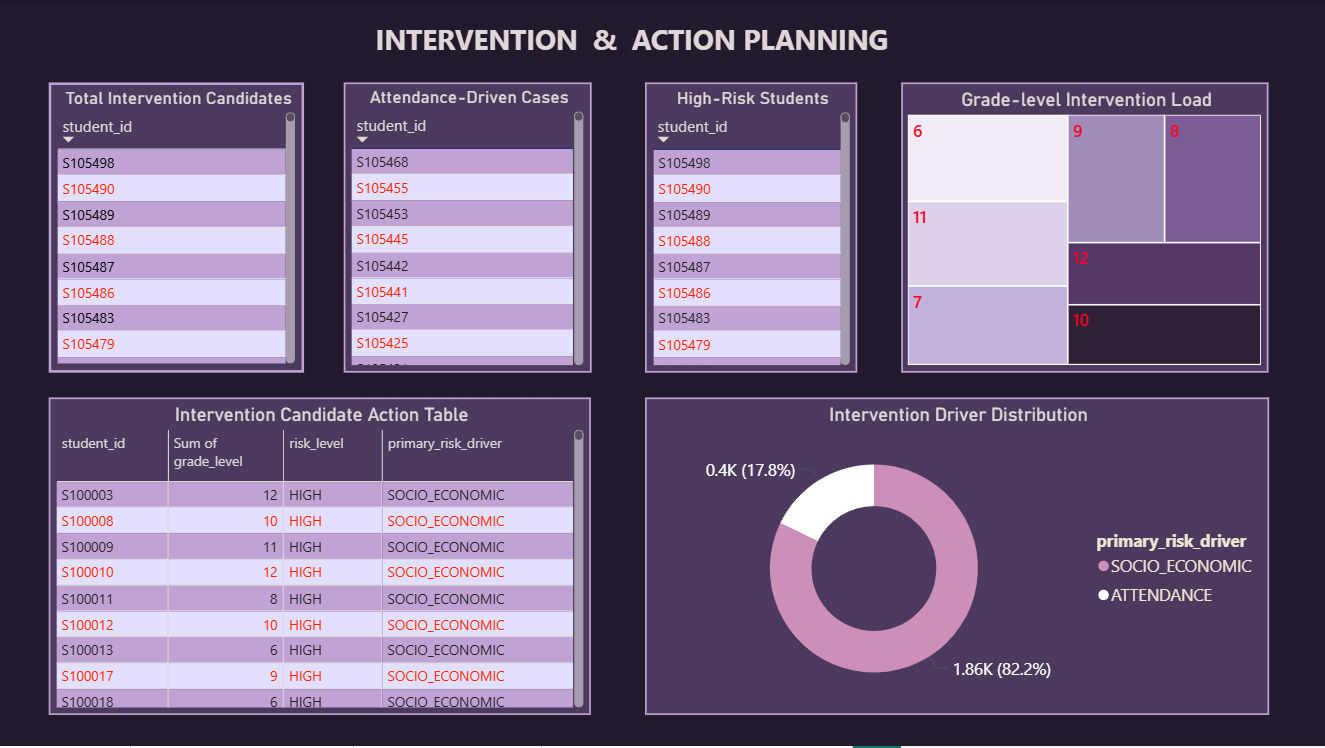

Layout of this report page (visuals, bound fields, positions):
{"tool":"powerbi","page":{"name":"INTERVENTION & ACTION PLANNING","canvas":[1280,720],"ordinal":3},"visuals":[{"type":"tableEx","title":"Total Intervention Candidates","fields":{"Values":["gold_intervention_candidates.student_id"]},"box":[47.1,79.6,246.1,279.9],"z":0},{"type":"tableEx","title":"Attendance-Driven Cases","fields":{"Values":["gold_intervention_candidates.student_id"]},"box":[331.8,79.6,238.9,279.9],"z":1000},{"type":"tableEx","title":"High-Risk Students","fields":{"Values":["gold_intervention_candidates.student_id"]},"box":[622.5,79.6,205.1,279.9],"z":2000},{"type":"treemap","title":"Grade-level Intervention Load","fields":{"Group":["gold_intervention_candidates.grade_level"],"Values":["CountNonNull(gold_intervention_candidates.student_id)"]},"box":[869.8,79.6,354.7,279.9],"z":3000},{"type":"tableEx","title":"Intervention Candidate Action Table","fields":{"Values":["gold_intervention_candidates.student_id","Sum(gold_intervention_candidates.grade_level)","gold_intervention_candidates.risk_level","gold_intervention_candidates.primary_risk_driver"]},"box":[47.1,383.6,523.6,306.4],"z":4000},{"type":"donutChart","title":"Intervention Driver Distribution","fields":{"Category":["gold_intervention_candidates.primary_risk_driver"],"Y":["CountNonNull(gold_intervention_candidates.student_id)"]},"box":[622.5,383.6,602,306.4],"z":5000},{"type":"textbox","box":[106.2,14.5,1007.4,45.8],"z":6000}]}

Visuals, with their boxes in screenshot pixels (x1, y1, x2, y2), scaled from the page's 1280x720 canvas onto the 1325x748 screenshot:
"Total Intervention Candidates" tableEx: {"left": 49, "top": 83, "right": 304, "bottom": 373}
"Attendance-Driven Cases" tableEx: {"left": 343, "top": 83, "right": 591, "bottom": 373}
"High-Risk Students" tableEx: {"left": 644, "top": 83, "right": 857, "bottom": 373}
"Grade-level Intervention Load" treemap: {"left": 900, "top": 83, "right": 1268, "bottom": 373}
"Intervention Candidate Action Table" tableEx: {"left": 49, "top": 399, "right": 591, "bottom": 717}
"Intervention Driver Distribution" donutChart: {"left": 644, "top": 399, "right": 1268, "bottom": 717}
textbox: {"left": 110, "top": 15, "right": 1153, "bottom": 63}
